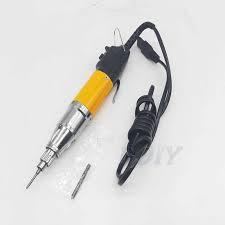screwdriver: (35, 43, 131, 170)
